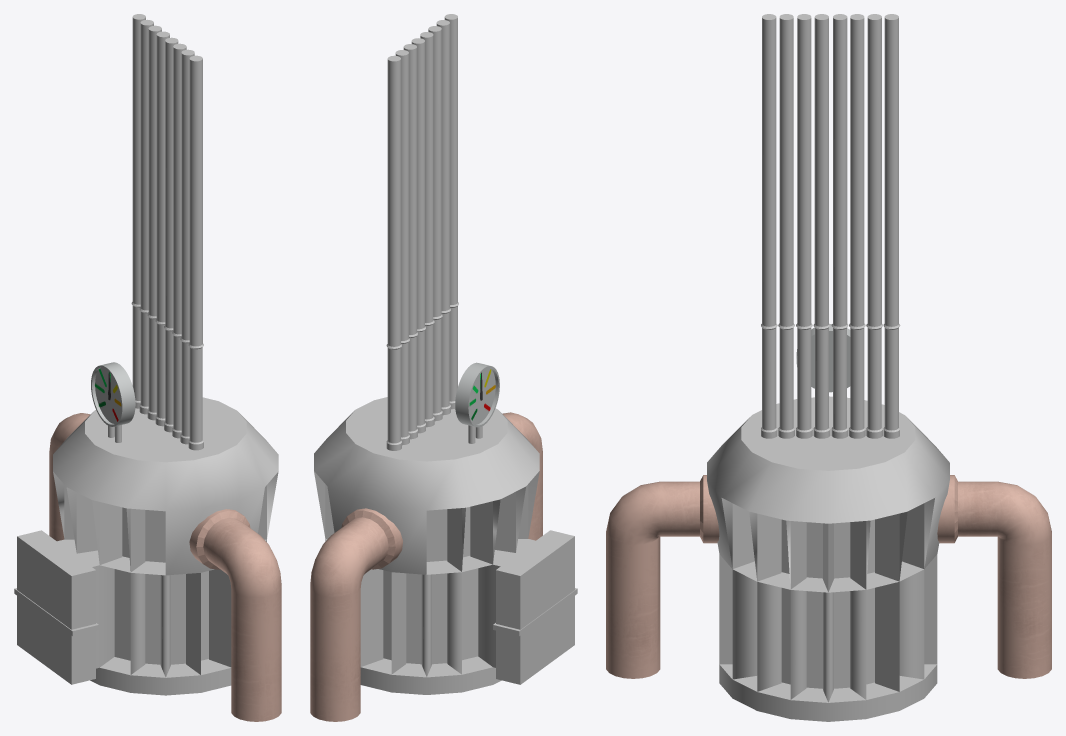
The model's file is WaterPumphazırr.fbx.
3 views of the same model, side by side, from view 1: azimuth 30°, elevation 25°; view 2: azimuth 150°, elevation 25°; view 3: azimuth 270°, elevation 25° (orthographic). The views are drawn at different scales.
Parts seen in each view (by area): view 1: mainbody, sidepipe, fusebox, smallpipe, smallpipe2, smallpipe5, smallpipe7, smallpipe4, smallpipe6, smallpipe3, smallpipe1, gauge (+1 smaller); view 2: mainbody, sidepipe1, fusebox, smallpipe1, smallpipe6, smallpipe3, smallpipe5, smallpipe7, smallpipe, smallpipe2, smallpipe4, gauge (+1 smaller); view 3: mainbody, sidepipe1, sidepipe, smallpipe, smallpipe1, smallpipe3, smallpipe4, smallpipe5, smallpipe7, smallpipe2, smallpipe6, gauge.
Boxes of the visible parts, bbox=[...] form: mainbody: bbox=[53, 397, 278, 695]; sidepipe: bbox=[189, 509, 281, 721]; fusebox: bbox=[14, 530, 98, 684]; smallpipe: bbox=[188, 55, 203, 450]; smallpipe2: bbox=[155, 31, 169, 426]; smallpipe5: bbox=[180, 49, 194, 444]; smallpipe7: bbox=[147, 25, 161, 420]; smallpipe4: bbox=[139, 19, 153, 414]; smallpipe6: bbox=[164, 37, 178, 432]; smallpipe3: bbox=[172, 43, 186, 438]; smallpipe1: bbox=[131, 14, 145, 408]; gauge: bbox=[91, 362, 135, 426]; mainbody: bbox=[314, 397, 539, 694]; sidepipe1: bbox=[310, 508, 402, 721]; fusebox: bbox=[493, 530, 577, 684]; smallpipe1: bbox=[386, 55, 401, 450]; smallpipe6: bbox=[420, 32, 434, 427]; smallpipe3: bbox=[428, 26, 442, 421]; smallpipe5: bbox=[436, 20, 450, 415]; smallpipe7: bbox=[403, 44, 417, 439]; smallpipe: bbox=[444, 14, 458, 409]; smallpipe2: bbox=[411, 38, 425, 433]; smallpipe4: bbox=[395, 50, 409, 445]; gauge: bbox=[455, 362, 499, 427]; mainbody: bbox=[707, 396, 949, 721]; sidepipe1: bbox=[937, 475, 1051, 678]; sidepipe: bbox=[606, 475, 719, 678]; smallpipe: bbox=[761, 14, 777, 438]; smallpipe1: bbox=[883, 14, 900, 438]; smallpipe3: bbox=[796, 14, 812, 438]; smallpipe4: bbox=[866, 14, 882, 438]; smallpipe5: bbox=[778, 14, 794, 438]; smallpipe7: bbox=[849, 14, 865, 438]; smallpipe2: bbox=[831, 14, 848, 438]; smallpipe6: bbox=[813, 14, 830, 438]; gauge: bbox=[796, 324, 850, 392].
Bounding box in the file's own units: 53.45 × 142 × 86.7.
